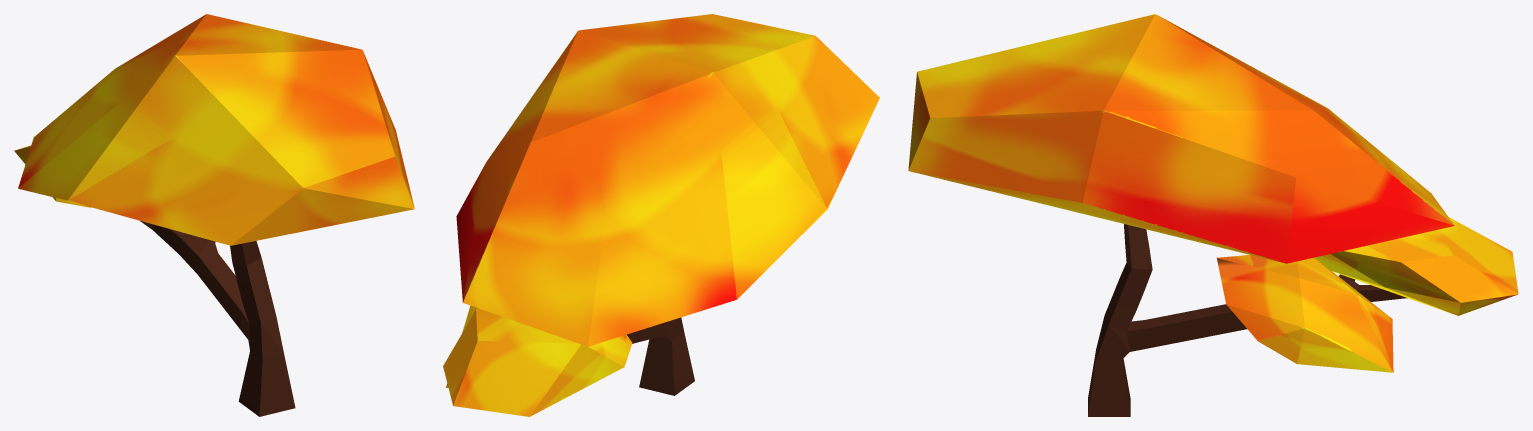
File: Tree3.fbx
The picture shows the model from 3 angles, left to right: view 1: azimuth 30°, elevation 25°; view 2: azimuth 150°, elevation 25°; view 3: azimuth 270°, elevation 25°; orthographic projection. The views are drawn at different scales.
Visible parts, largest first — view 1: Icosphere, Cube; view 2: Icosphere, Cube; view 3: Icosphere, Cube.
Boxes of the visible parts, x1,y1,x2,y2 form: Icosphere: [14, 14, 414, 245]; Cube: [140, 221, 295, 416]; Icosphere: [443, 14, 879, 416]; Cube: [627, 317, 694, 395]; Icosphere: [908, 14, 1518, 372]; Cube: [1088, 224, 1407, 416].
Size of the model in its own units: 428 by 463 by 713.
